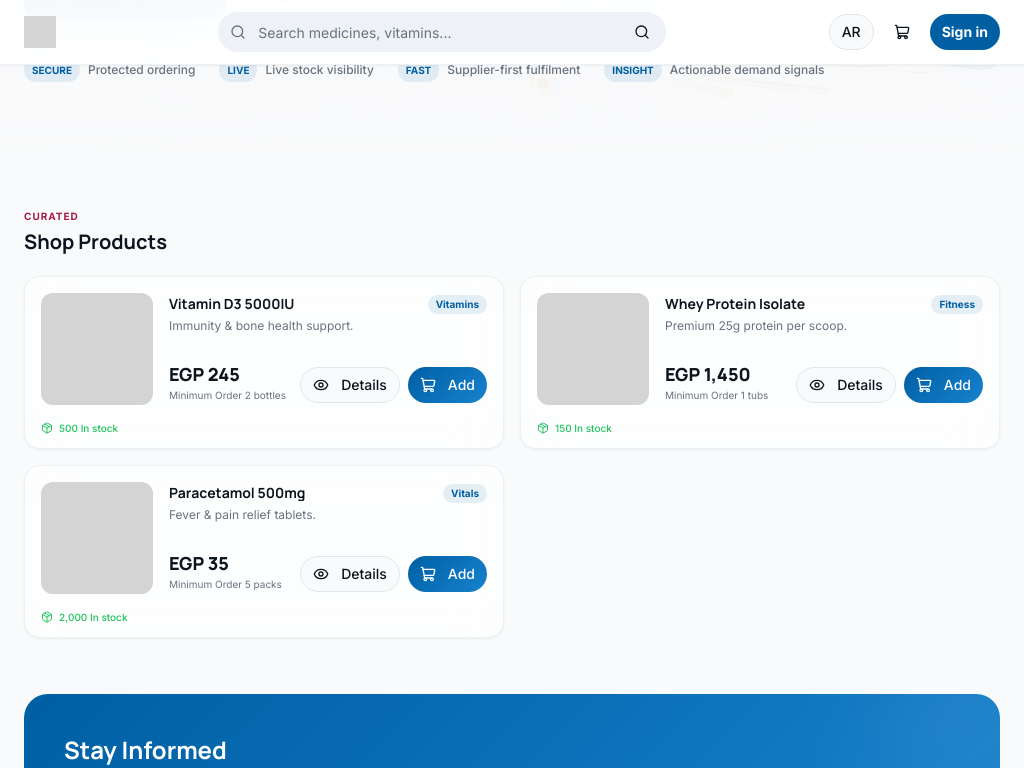
Wellness app — full end-to-end flow › adds a product to cart, opens the drawer and updates quantity
(page scrolled)
Expected: the text "Whey Protein Isolate" is shown, left=665, top=294, right=805, bottom=312
Click the button "Add" in the row of "tub": coordinates (943, 384) left=904, top=366, right=983, bottom=402
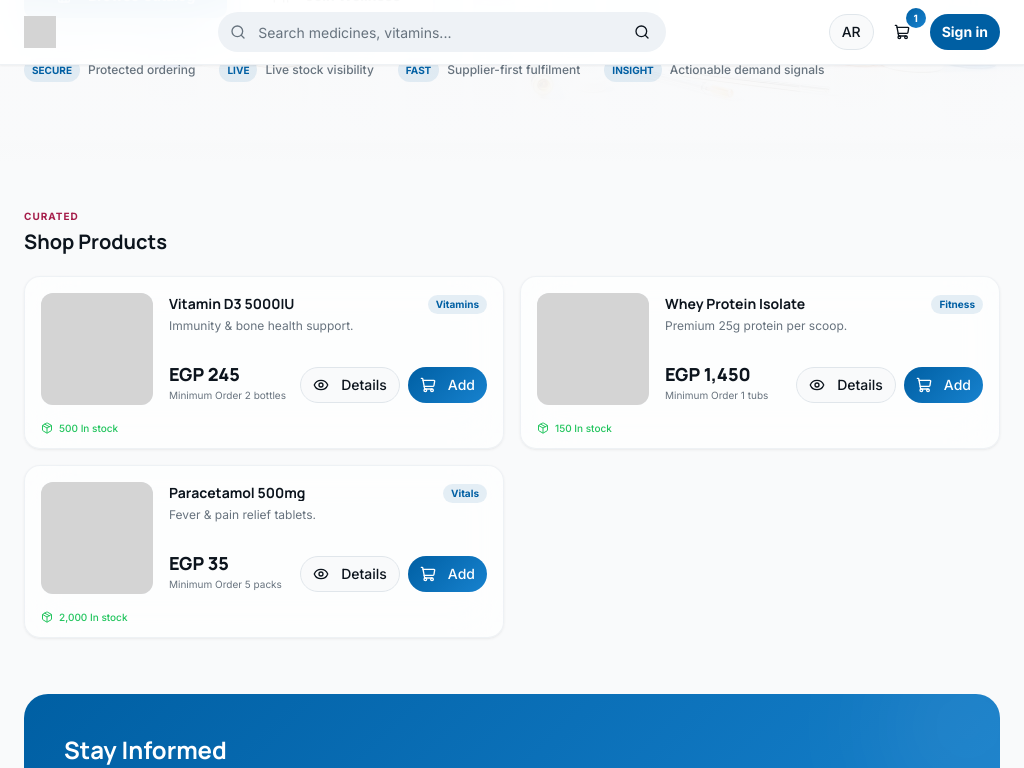
Now the text "1" is shown, box left=906, top=8, right=926, bottom=28
Note: Open the cart drawer via the cart icon button (the one in the header)
Click the button "1": coordinates (902, 32) left=882, top=12, right=922, bottom=52
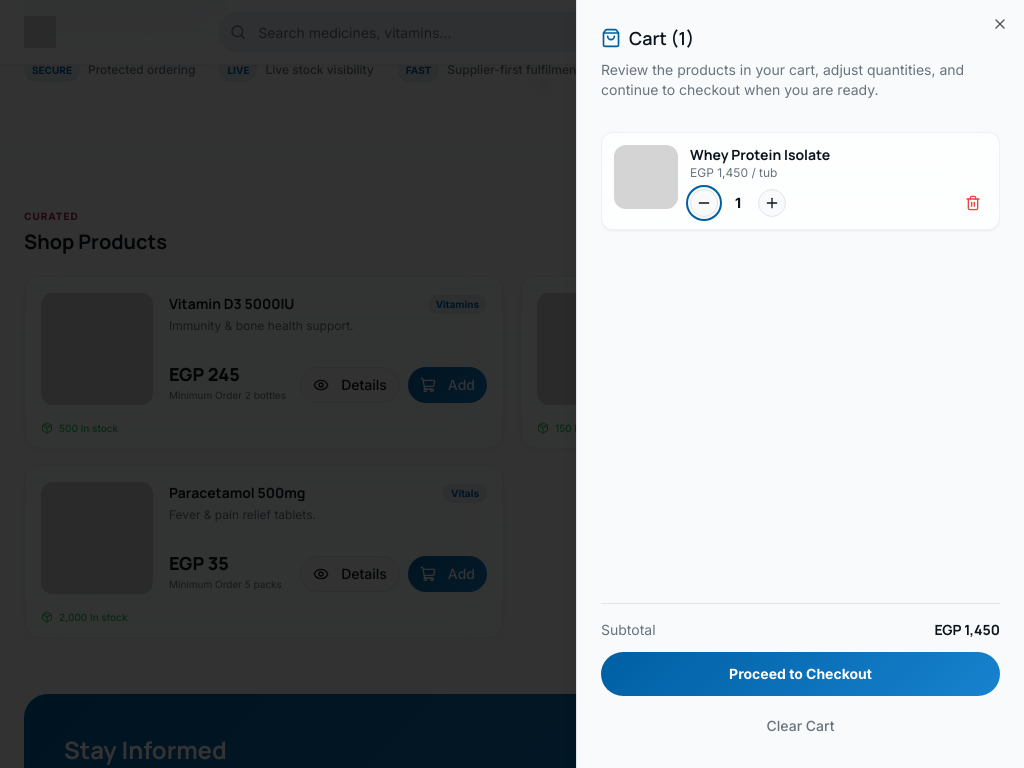
Now the heading "Cart (1)" is shown, box left=601, top=26, right=694, bottom=50
Now the button "Proceed to Checkout" is shown, box left=601, top=652, right=1000, bottom=696
Now the text "EGP 1,450 / tub" is shown, box left=690, top=165, right=778, bottom=180
Click the 3rd button: coordinates (772, 203) left=758, top=189, right=786, bottom=217
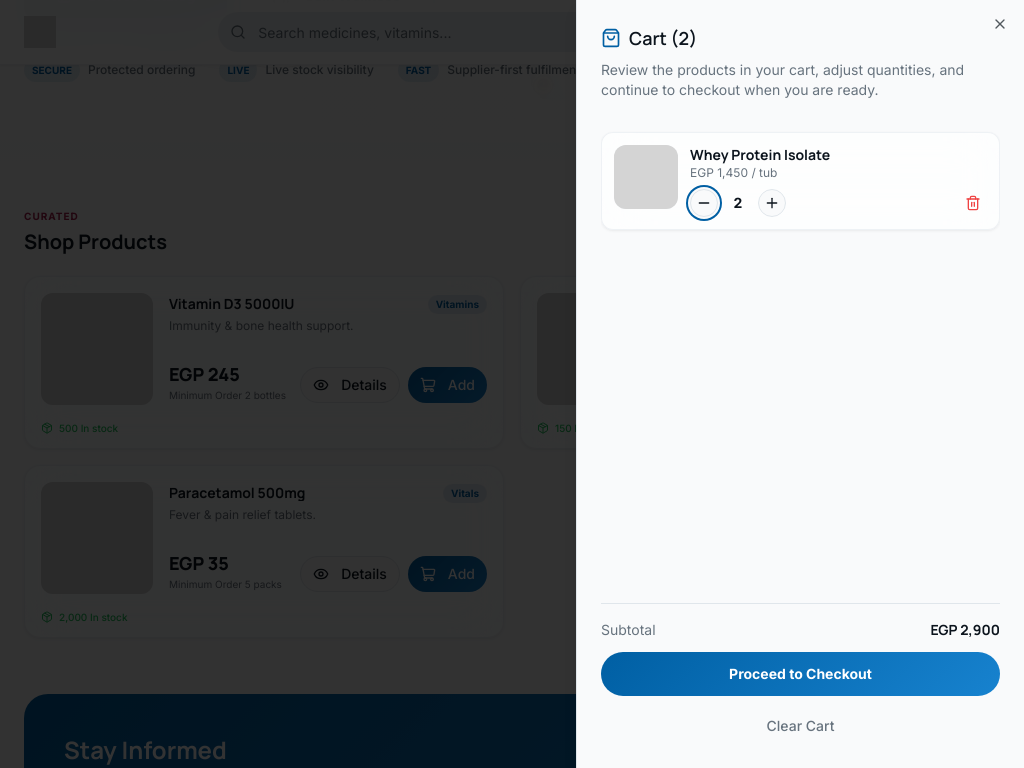
Now the text "EGP 2,900" is shown, box left=930, top=620, right=1000, bottom=640
